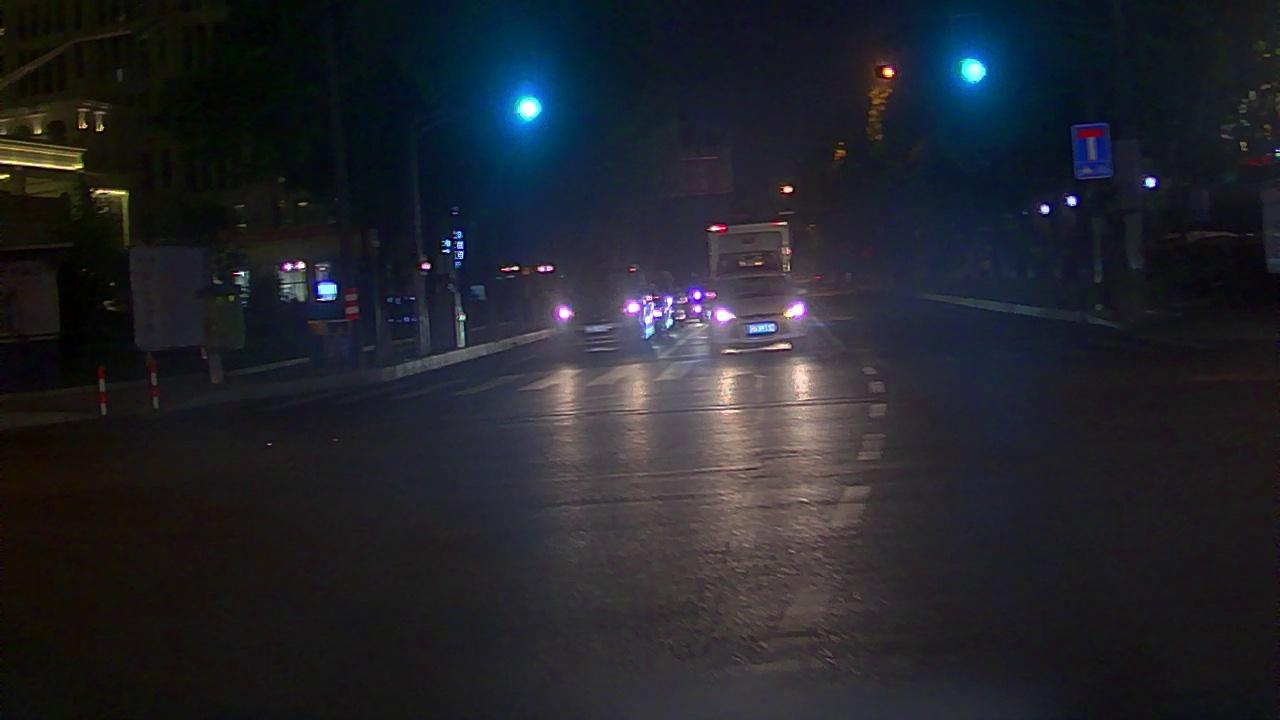traffic_light: (952, 48, 995, 91), (507, 87, 549, 129)
